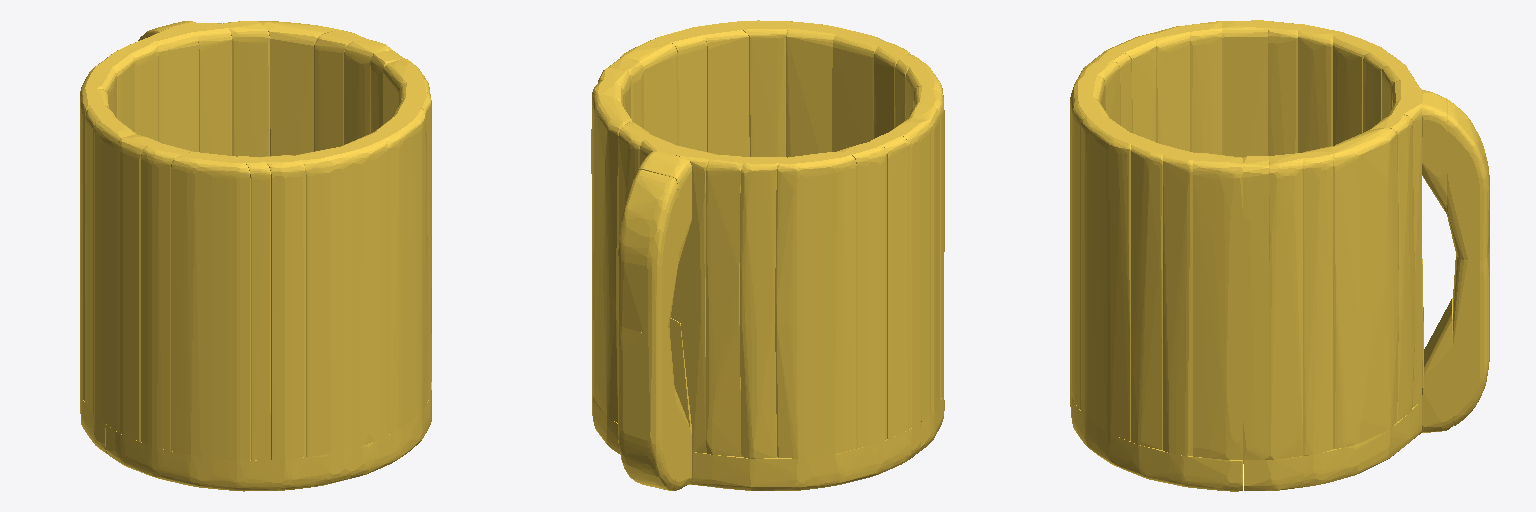
robot.urdf — 956.urdf:
<?xml version="1.0" ?>
<robot name="956.urdf">
	<link name="baseLink">
		<inertial>
			<origin rpy="0 0 0" xyz="0 0 0"/>
				<mass value="0.1"/>
				<inertia ixx="6e-5" ixy="0" ixz="0" iyy="6e-5" iyz="0" izz="6e-5"/>
		</inertial>
		<visual>
			<origin rpy="0 0 0" xyz="0 0 0"/>
			<geometry>
				<mesh filename="0_decom_wt.obj" scale="0.80 0.80 1.08"/>
			</geometry>
			<material name="yellow">
				<color rgba="0.98 0.84 0.35 1"/>
			</material>
		</visual>
		<collision>
			<origin rpy="0 0 0" xyz="0 0 0"/>
			<geometry>
				<mesh filename="0_decom_wt.obj" scale="0.80 0.80 1.08"/>
			</geometry>
		</collision>
	</link>
</robot>

--- Render facts (derived) ---
Views: 3 orthographic renders of the robot side by side, from view 1: azimuth 30°, elevation 25°; view 2: azimuth 150°, elevation 25°; view 3: azimuth 270°, elevation 25°.
Robot: 956.urdf — 1 links, 0 joints (none); root link baseLink; default pose: every joint at zero.
Visible links, largest first — view 1: baseLink; view 2: baseLink; view 3: baseLink.
Link boxes in pixels (x1,y1,x2,y2): baseLink: (80, 21, 431, 491); baseLink: (591, 20, 944, 490); baseLink: (1070, 20, 1489, 491).
Bounding box of the posed robot: 0.102 × 0.1214 × 0.1052 m (x, y, z).
Meshes: 1 distinct files referenced, 1 mesh visuals loaded (1 OBJ).